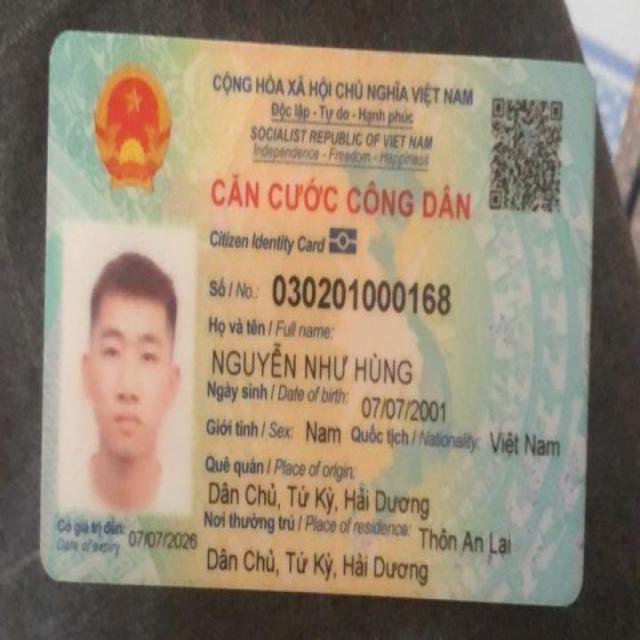bottom_left: (21, 543, 76, 597)
bottom_right: (544, 567, 597, 623)
image_person: (56, 226, 196, 518)
top_left: (36, 18, 86, 71)
top_right: (553, 46, 609, 102)
